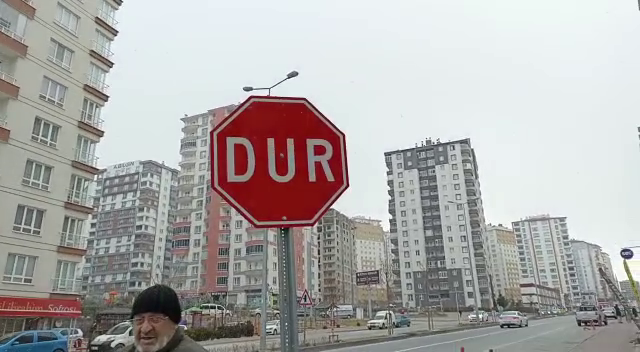stop: (206, 94, 352, 231)
